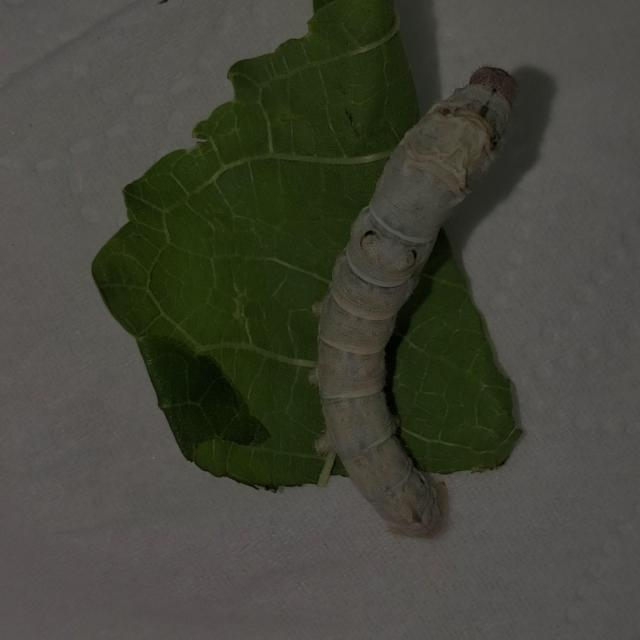Healthy: (284, 43, 582, 558)
